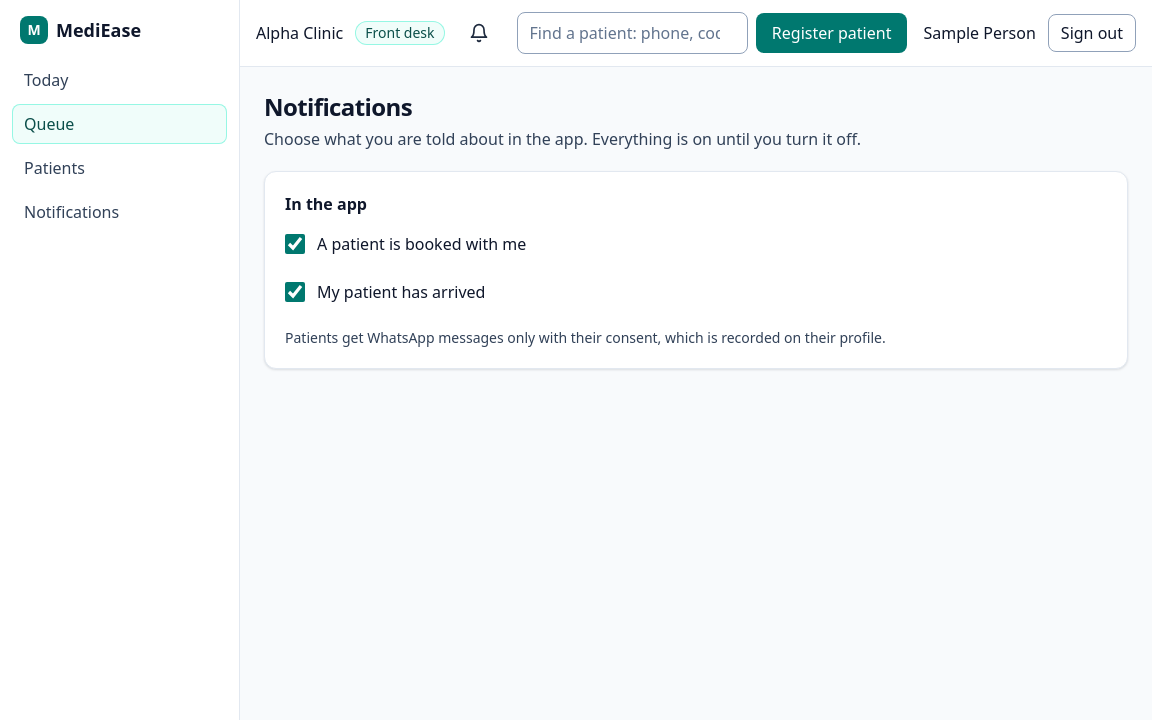
my notification settings (M6a-P7, FR-NTF-05) › lists each kind, on by default, and saves a change at once
Expected: the heading "Notifications" is shown, 264,90 -> 412,123
Expected: the checkbox labelled "My patient has arrived" is checked, 285,282 -> 305,302
Click the checkbox labelled "A patient is booked with me" at (295, 244), box 285,234 -> 305,254
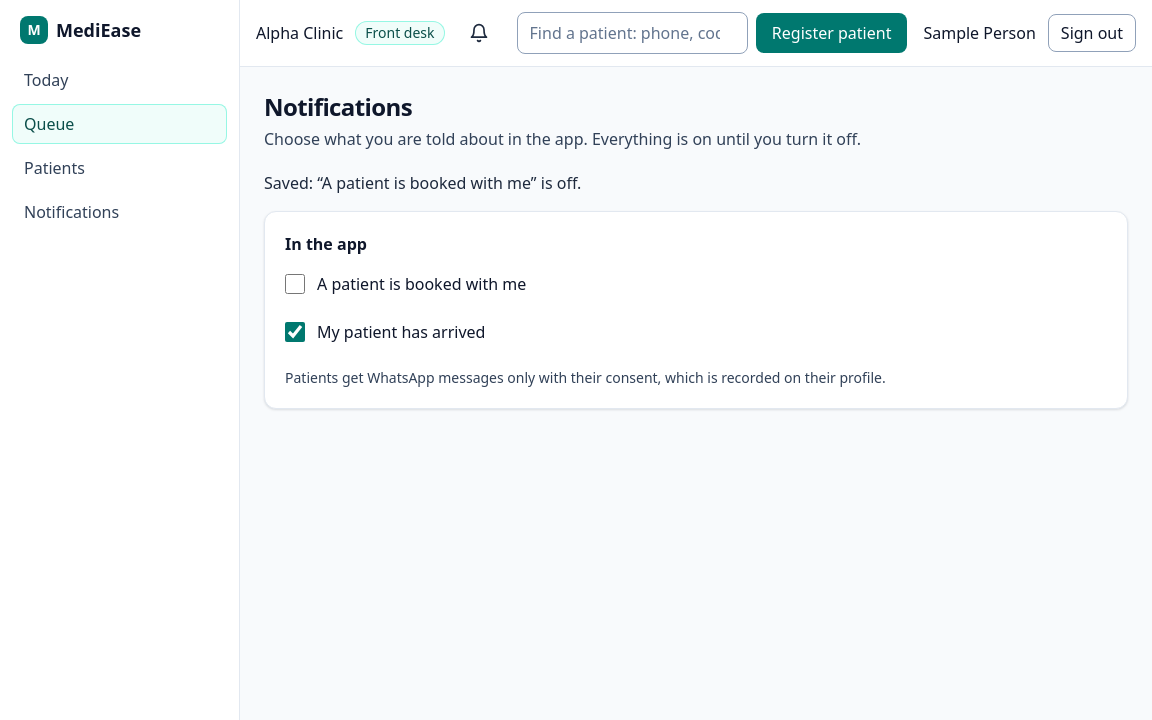
Now the checkbox labelled "A patient is booked with me" is not checked, box 285,274 -> 305,294
Now the text "Saved: “A patient is booked with me” is off." is shown, box 264,172 -> 581,194
